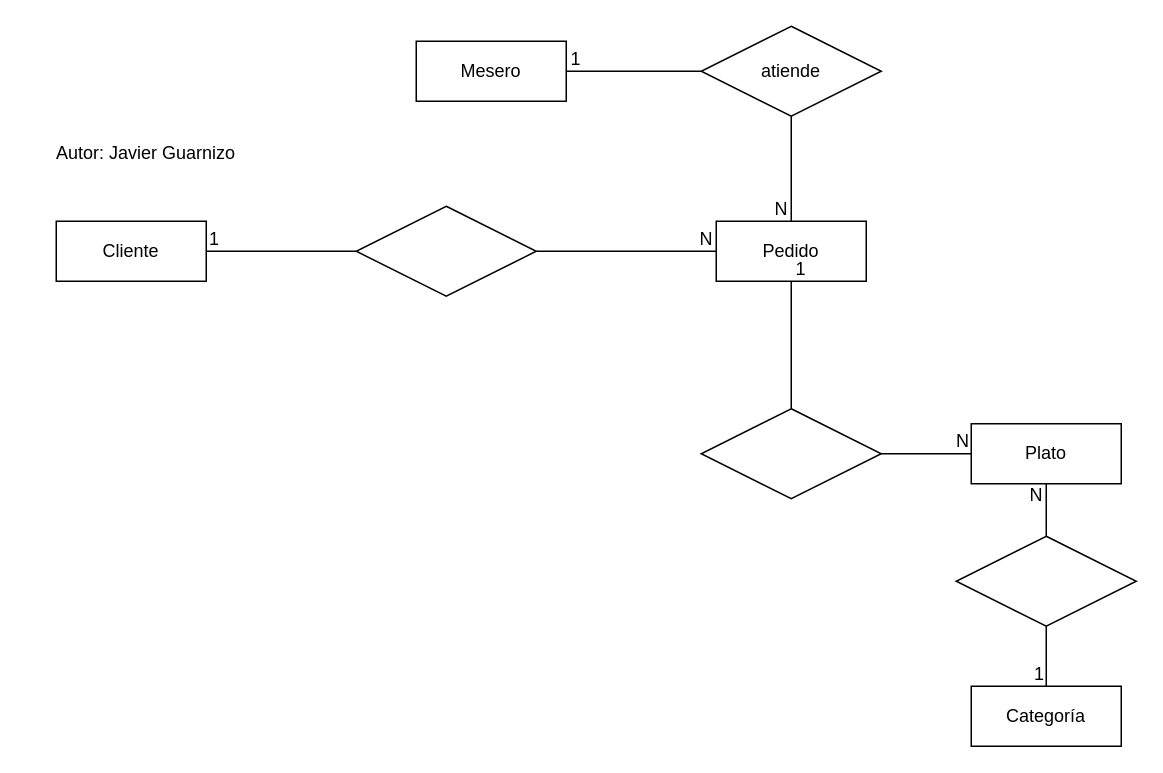
The diagram is 1163 pixels wide and 773 high, and some of its shapes have lost their labels. The centre of each missing label's shape, as x and y in pixels:
contiene: the point at 790,453
pertenece: the point at 1045,580
realiza: the point at 445,250
